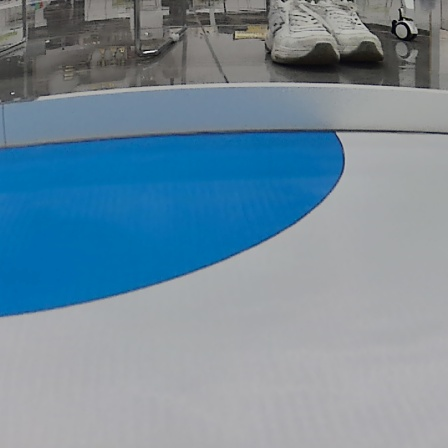blue_base: (1, 129, 347, 329)
